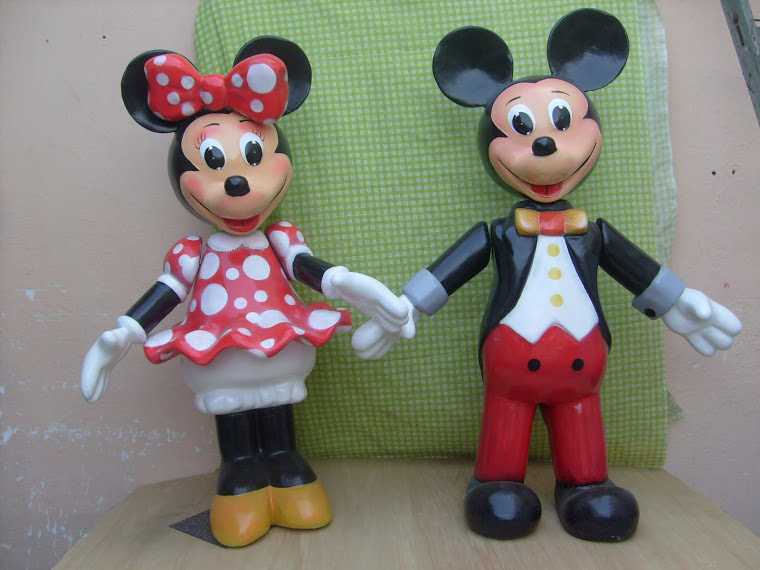Mickey: (429, 3, 632, 206)
